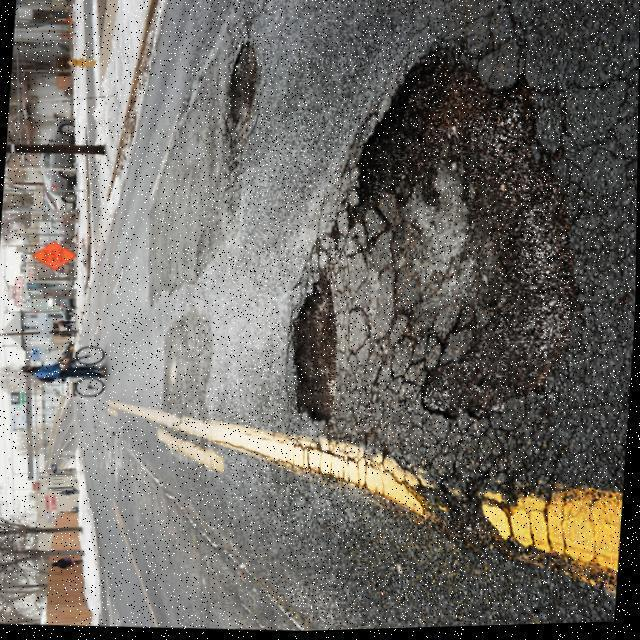Pothole: (344, 30, 583, 422), (279, 267, 345, 427), (217, 35, 267, 172)
